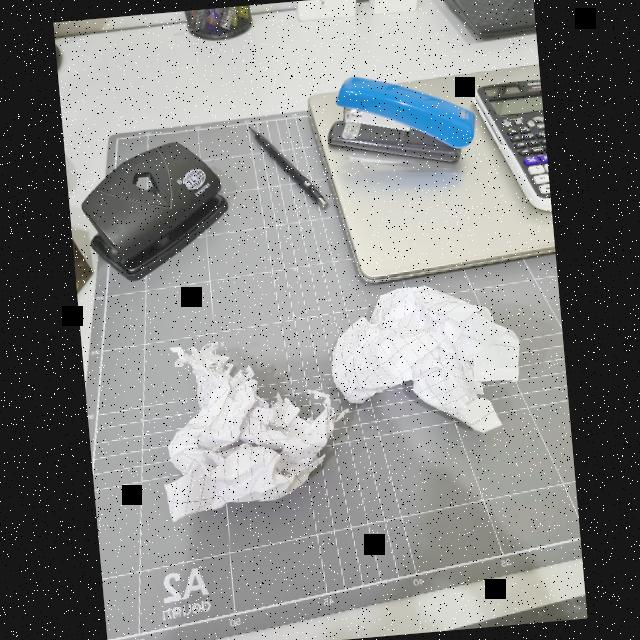scrap_paper: (144, 336, 336, 516), (324, 277, 528, 443)
